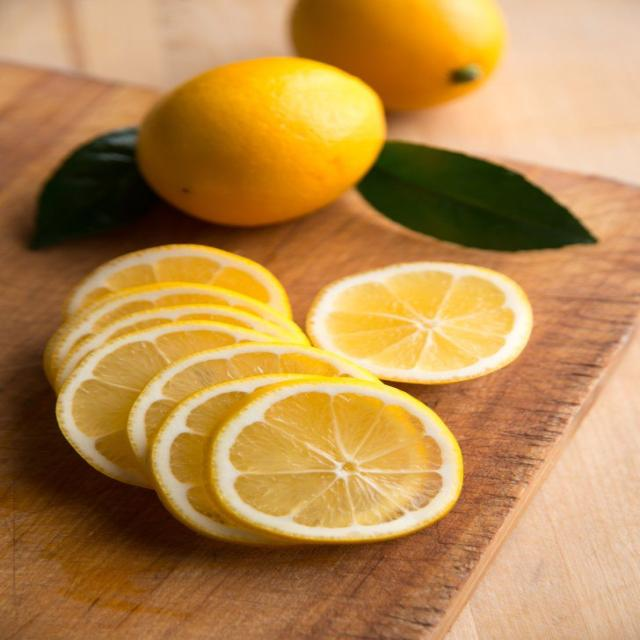lemon: (204, 379, 462, 542), (138, 58, 385, 226), (57, 321, 273, 486), (128, 344, 379, 466), (307, 262, 531, 383), (150, 374, 307, 544), (44, 283, 304, 382), (292, 0, 505, 110), (55, 305, 308, 388), (65, 245, 290, 316)
